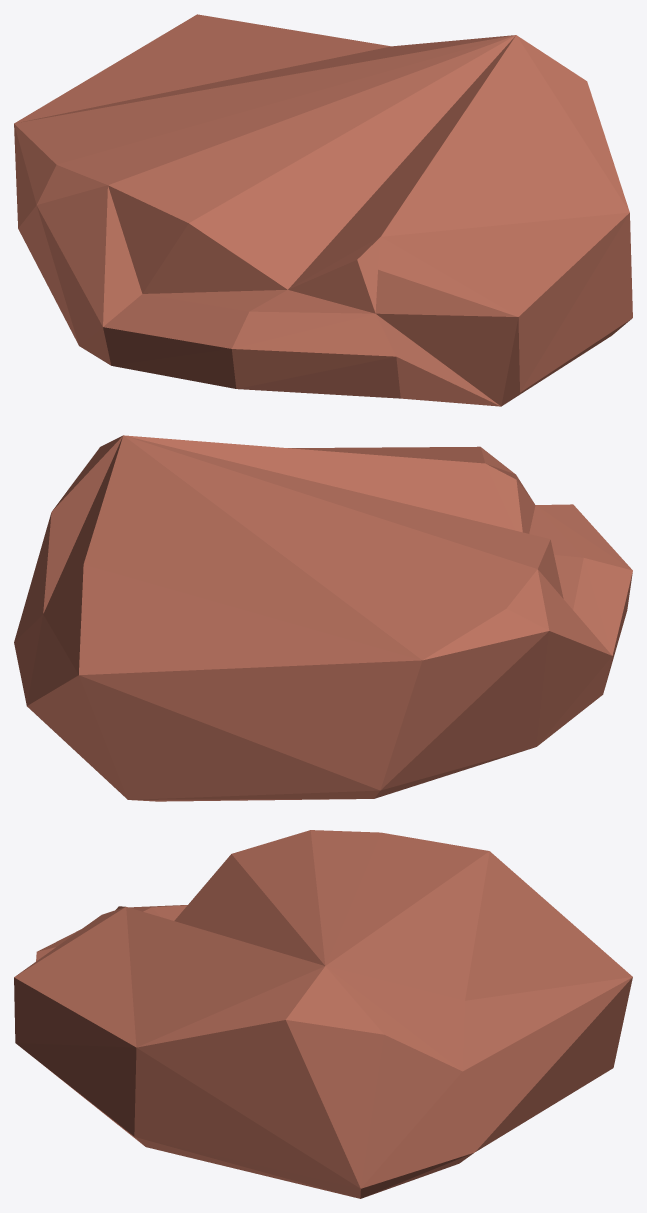
The model's file is rock_022.fbx.
The picture shows the model from 3 angles, top to bottom: view 1: azimuth 30°, elevation 25°; view 2: azimuth 150°, elevation 25°; view 3: azimuth 270°, elevation 25°; orthographic projection. The views are drawn at different scales.
Parts seen in each view (by area): view 1: rock_022; view 2: rock_022; view 3: rock_022.
Boxes of the visible parts, box(x1,y1,x2,y2) form: rock_022: box(14, 14, 632, 406); rock_022: box(14, 435, 632, 801); rock_022: box(14, 830, 632, 1198).
Bounding box in the file's own units: 433 × 501 × 181.
